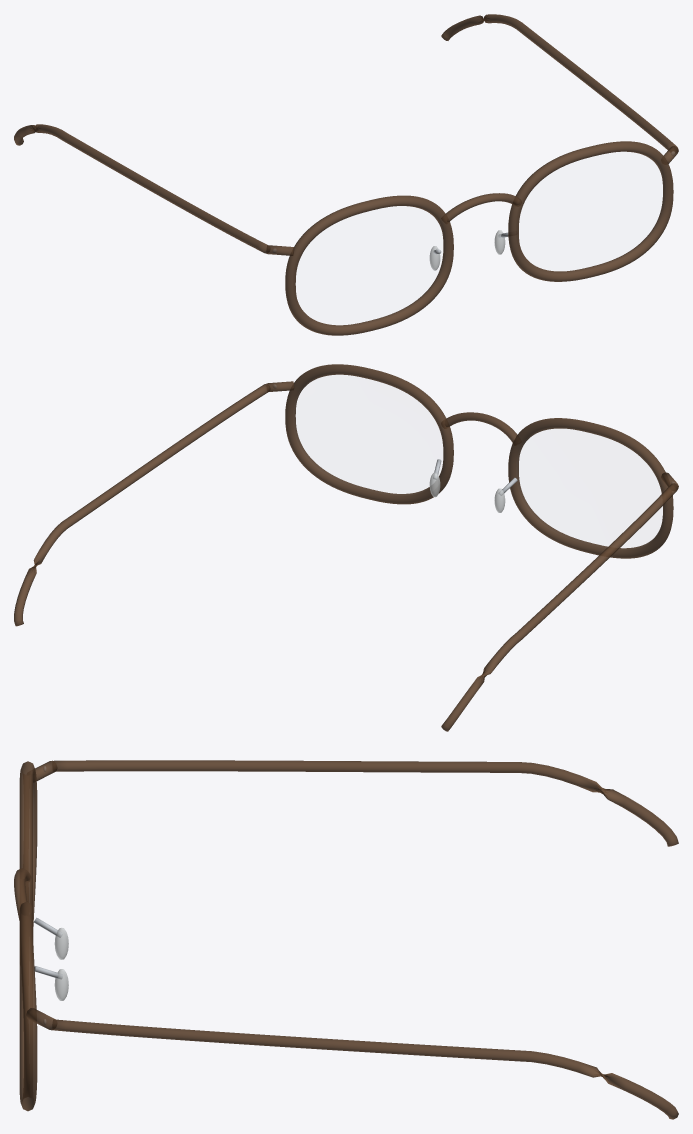
File: tim-35-v1.glb
3 renders of one model, top to bottom at view 1: azimuth 30°, elevation 25°; view 2: azimuth 150°, elevation 25°; view 3: azimuth 270°, elevation 25°, orthographic. The views are drawn at different scales.
Visible parts, largest first — view 1: rim_right, rim_left, temple_right, temple_left, bridge; view 2: rim_left, rim_right, temple_left, temple_right, bridge; view 3: temple_right, temple_left, rim_left, rim_right.
Boxes of the visible parts, <box> form: rim_right: <box>285,195,453,335</box>; rim_left: <box>508,141,673,281</box>; temple_right: <box>14,124,270,253</box>; temple_left: <box>441,14,678,151</box>; bridge: <box>441,193,521,223</box>; rim_left: <box>285,364,453,504</box>; rim_right: <box>508,418,673,558</box>; temple_left: <box>14,383,270,626</box>; temple_right: <box>441,483,678,731</box>; bridge: <box>441,412,521,445</box>; temple_right: <box>53,760,678,846</box>; temple_left: <box>52,1019,678,1119</box>; rim_left: <box>19,901,37,1111</box>; rim_right: <box>19,761,37,935</box>.
Size of the model in its own units: 0.1566 by 0.0423 by 0.15.
